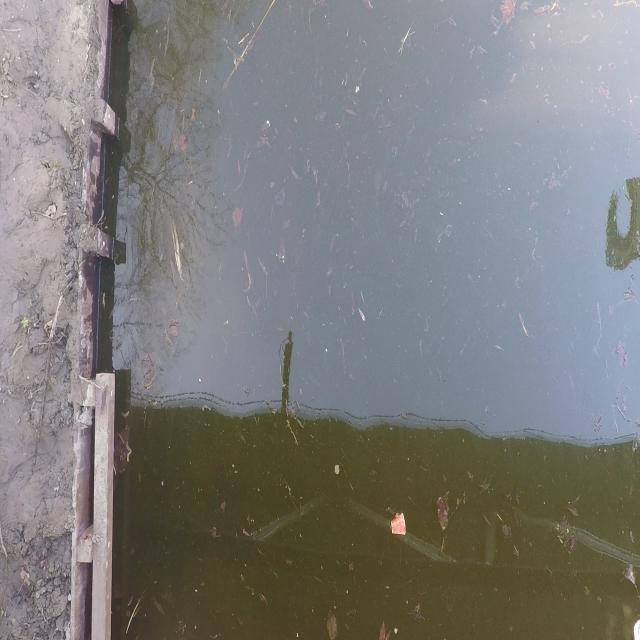Non plastique: (391, 507, 408, 548)
